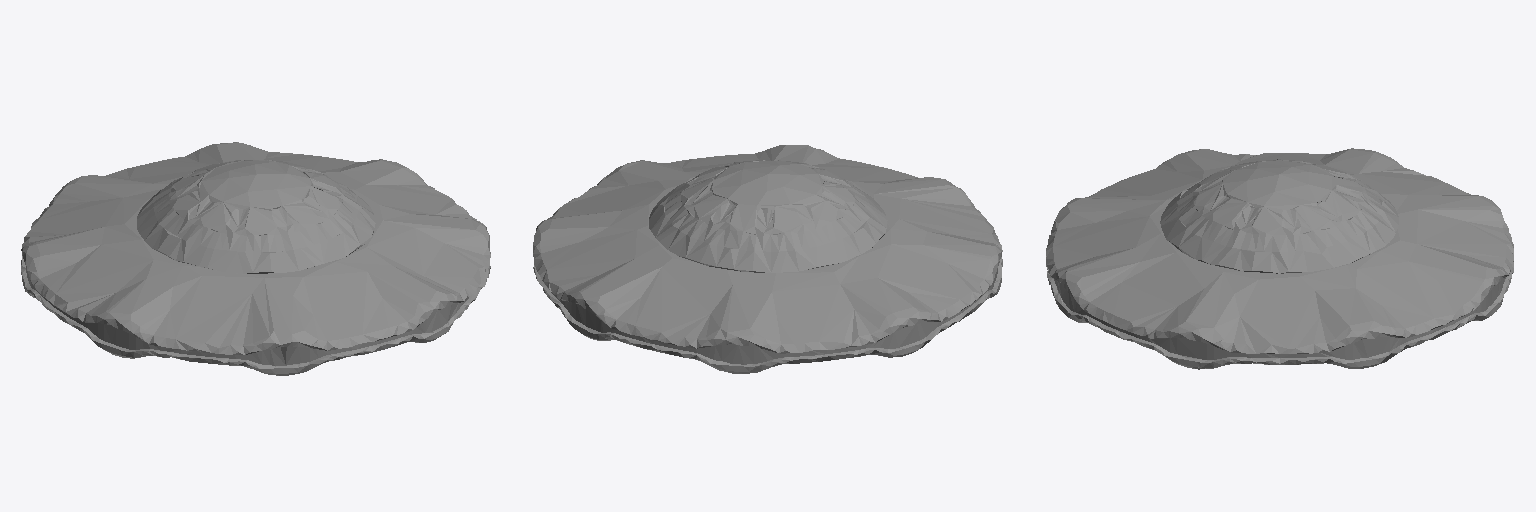
File: frame_038.obj
3 renders of one model, left to right at view 1: azimuth 30°, elevation 25°; view 2: azimuth 150°, elevation 25°; view 3: azimuth 270°, elevation 25°, orthographic.
Parts seen in each view (by area): view 1: 13884_UFO_Saucer_v1_l2; view 2: 13884_UFO_Saucer_v1_l2; view 3: 13884_UFO_Saucer_v1_l2.
Boxes of the visible parts, x1=… form: 13884_UFO_Saucer_v1_l2: x1=21, y1=142, x2=490, y2=375; 13884_UFO_Saucer_v1_l2: x1=533, y1=145, x2=1002, y2=373; 13884_UFO_Saucer_v1_l2: x1=1046, y1=148, x2=1513, y2=369.
Size of the model in its own units: 12.69 by 4.88 by 12.7.